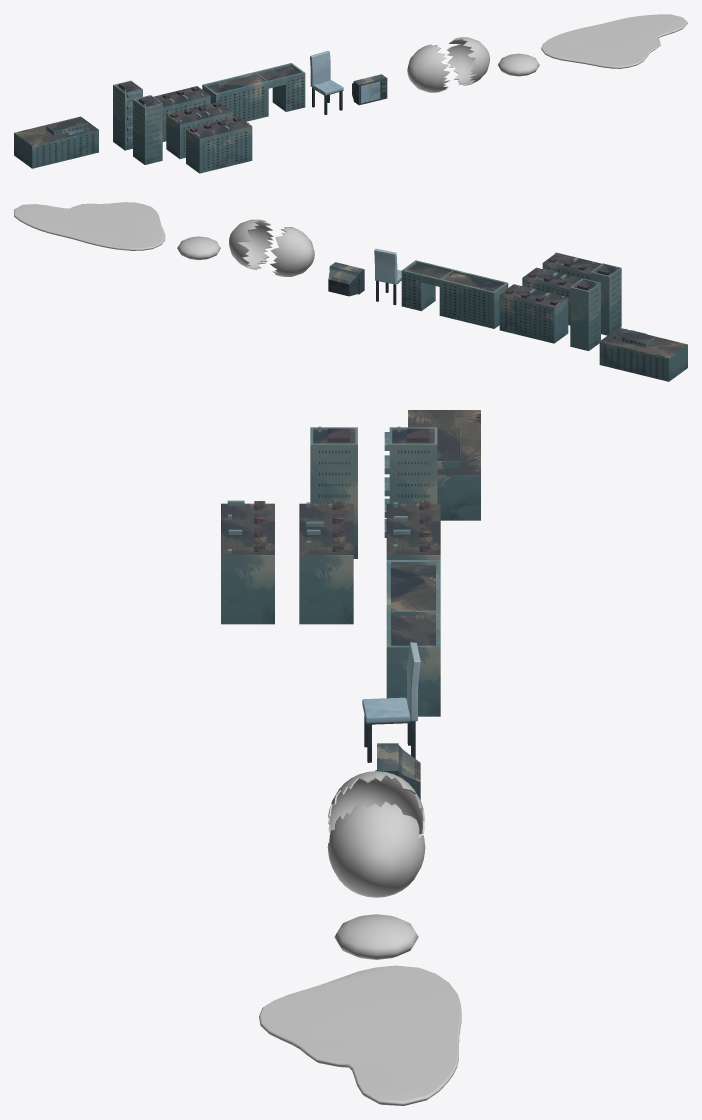
Rendered from environment asset green.fbx.
3 views of the same model, one above another, from view 1: azimuth 30°, elevation 25°; view 2: azimuth 150°, elevation 25°; view 3: azimuth 270°, elevation 25° (orthographic). The views are drawn at different scales.
Visible parts, largest first — view 1: G1_eggwhite, G2_building1, G2_building6, G2_building7, G2_building3_tall, G2_building5, G2_building8, G1_eggshell2, G1_eggshell1, G2_building2_tall, G2_chair, G2_building4 (+2 smaller); view 2: G1_eggwhite, G2_building1, G2_building4, G2_building7, G2_building2_tall, G2_building8, G1_eggshell2, G1_eggshell1, G2_building3_tall, G2_building5, G2_television, G2_chair (+2 smaller); view 3: G1_eggwhite, G1_eggshell2, G2_building5, G2_building6, G2_building1, G2_building8, G2_building2_tall, G2_building3_tall, G2_building4, G1_eggshell1, G2_building7, G1_eggyolk (+2 smaller).
Boxes of the visible parts, box(x1,y1,x2,y2) form: G1_eggwhite: box(541, 14, 687, 68); G2_building1: box(14, 116, 98, 168); G2_building6: box(186, 116, 252, 173); G2_building7: box(202, 72, 268, 121); G2_building3_tall: box(133, 95, 162, 164); G2_building5: box(166, 102, 232, 158); G2_building8: box(255, 63, 305, 111); G1_eggshell2: box(447, 37, 489, 85); G1_eggshell1: box(407, 44, 450, 92); G2_building2_tall: box(113, 80, 142, 150); G2_chair: box(310, 51, 343, 114); G2_building4: box(153, 86, 210, 141); G1_eggwhite: box(14, 202, 165, 250); G2_building1: box(599, 327, 687, 381); G2_building4: box(499, 284, 568, 343); G2_building7: box(439, 269, 508, 328); G2_building2_tall: box(570, 278, 600, 350); G2_building8: box(401, 260, 453, 311); G1_eggshell2: box(229, 219, 273, 270); G1_eggshell1: box(270, 227, 314, 276); G2_building3_tall: box(590, 263, 621, 335); G2_building5: box(522, 267, 581, 325); G2_television: box(328, 262, 364, 296); G2_chair: box(374, 248, 401, 305); G1_eggwhite: box(259, 965, 461, 1105); G1_eggshell2: box(327, 801, 425, 897); G2_building5: box(299, 501, 353, 624); G2_building6: box(221, 500, 274, 624); G2_building1: box(408, 410, 480, 520); G2_building8: box(386, 611, 440, 716); G2_building2_tall: box(384, 426, 437, 537); G2_building3_tall: box(310, 426, 357, 558); G2_building4: box(386, 501, 440, 559); G1_eggshell1: box(328, 771, 425, 839); G2_building7: box(386, 560, 440, 615); G1_eggyolk: box(334, 914, 418, 959).
Size of the model in its own units: 909 by 97.43 by 158.
